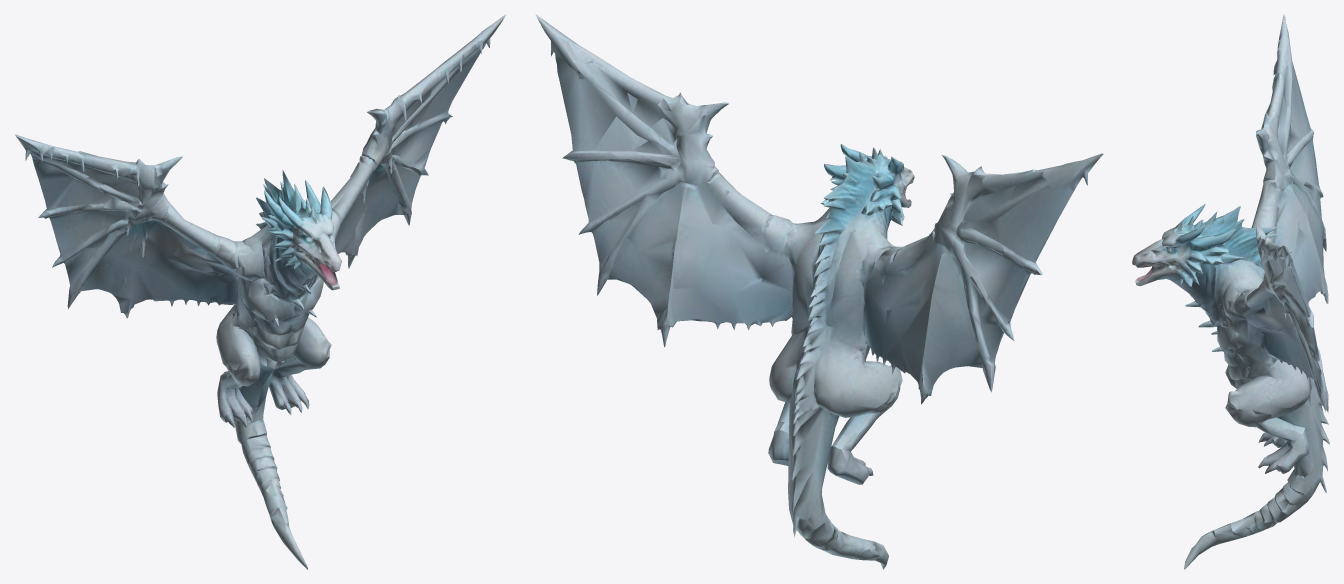
Rendered from dragon.glb.
3 renders of one model, left to right at view 1: azimuth 30°, elevation 25°; view 2: azimuth 150°, elevation 25°; view 3: azimuth 270°, elevation 25°, orthographic. The views are drawn at different scales.
Parts seen in each view (by area): view 1: Mesh; view 2: Mesh; view 3: Mesh.
Boxes of the visible parts, left/top/right/bottom form: Mesh: left=15, top=14, right=505, bottom=569; Mesh: left=535, top=14, right=1103, bottom=569; Mesh: left=1132, top=14, right=1329, bottom=569.
Size of the model in its own units: 1.68 by 1.5 by 0.6064.
1 material, 1 textured.
